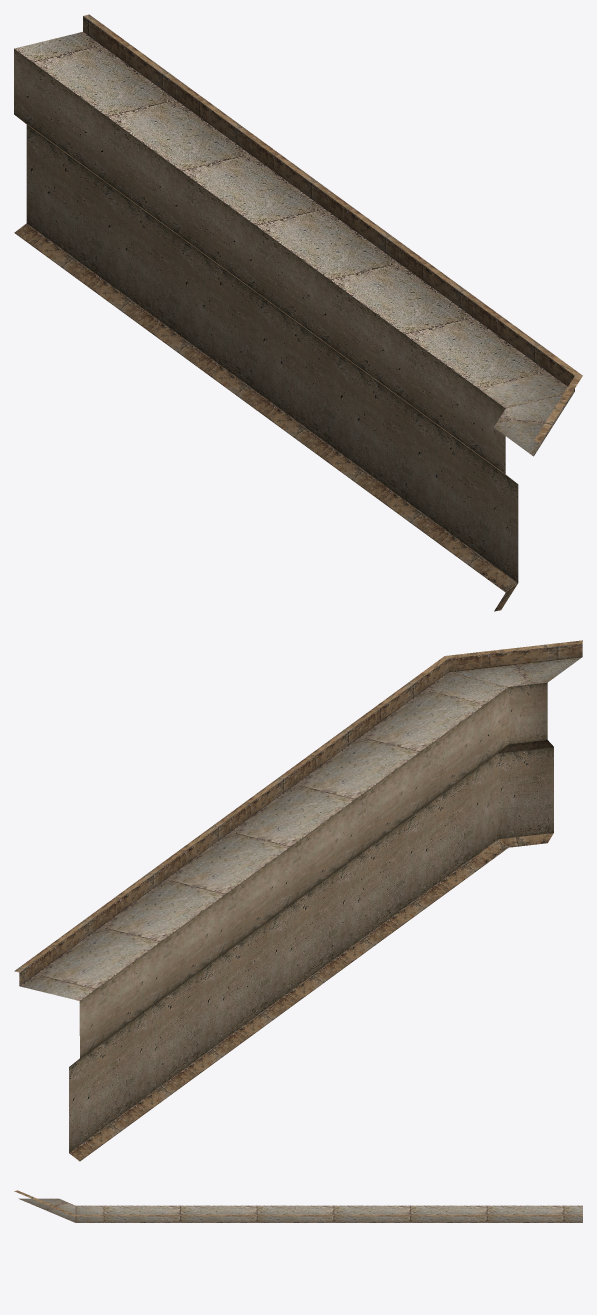
The model's file is M11_CompWallInner_B2.glb.
3 renders of one model, top to bottom at view 1: azimuth 30°, elevation 25°; view 2: azimuth 150°, elevation 25°; view 3: azimuth 270°, elevation 25°, orthographic. The views are drawn at different scales.
Parts seen in each view (by area): view 1: M11_COMPWALLINNER_B2; view 2: M11_COMPWALLINNER_B2; view 3: M11_COMPWALLINNER_B2.
Part boxes in pixels (x1,y1,x2,y2): M11_COMPWALLINNER_B2: [14, 14, 582, 611]; M11_COMPWALLINNER_B2: [14, 640, 582, 1161]; M11_COMPWALLINNER_B2: [14, 1190, 582, 1222].
Size of the model in its own units: 4.12 by 7.6 by 38.01.
Materials: 3 (3 with a texture image).
